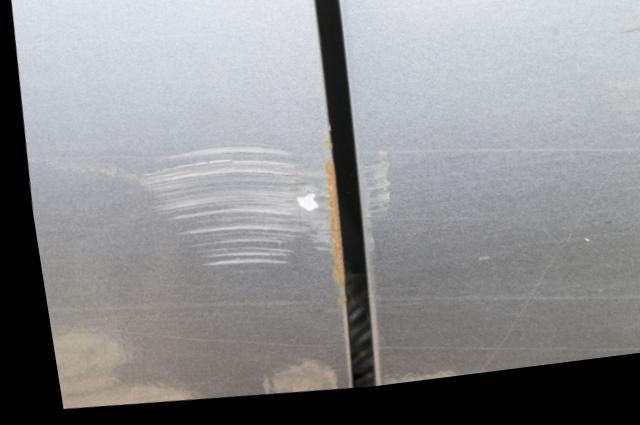scratch: (115, 145, 326, 281), (348, 159, 380, 261)
